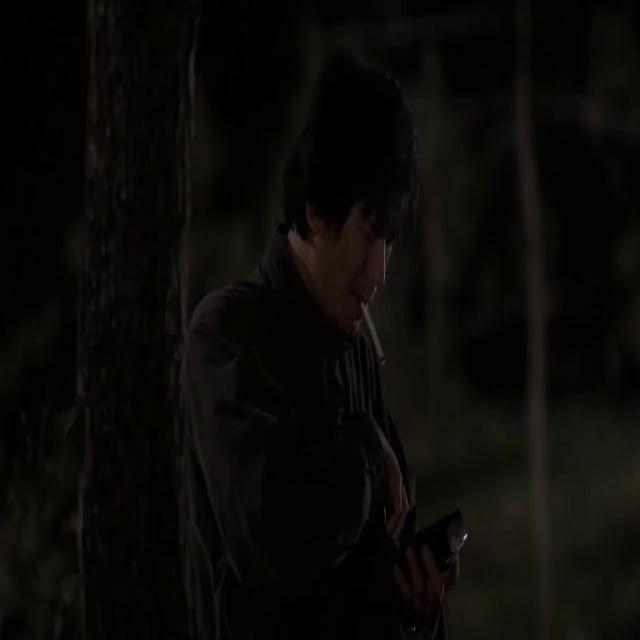Smooking: (360, 285, 390, 368)
